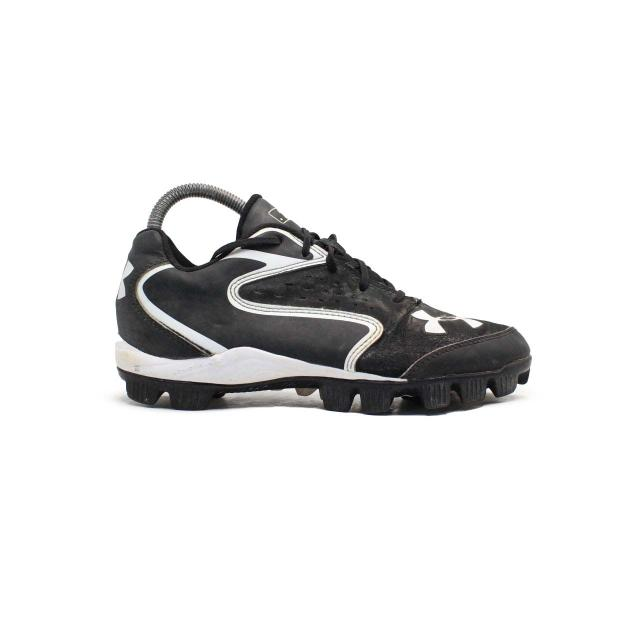heel: (115, 228, 201, 358)
midsole: (111, 339, 534, 415)
uppersole: (194, 195, 530, 380)
